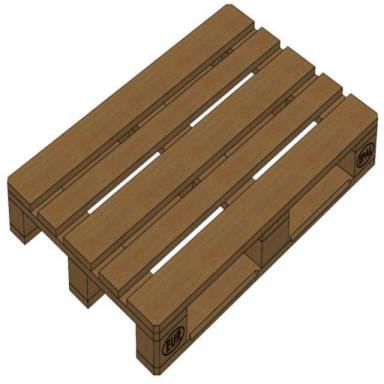pallet: (7, 4, 378, 376)
